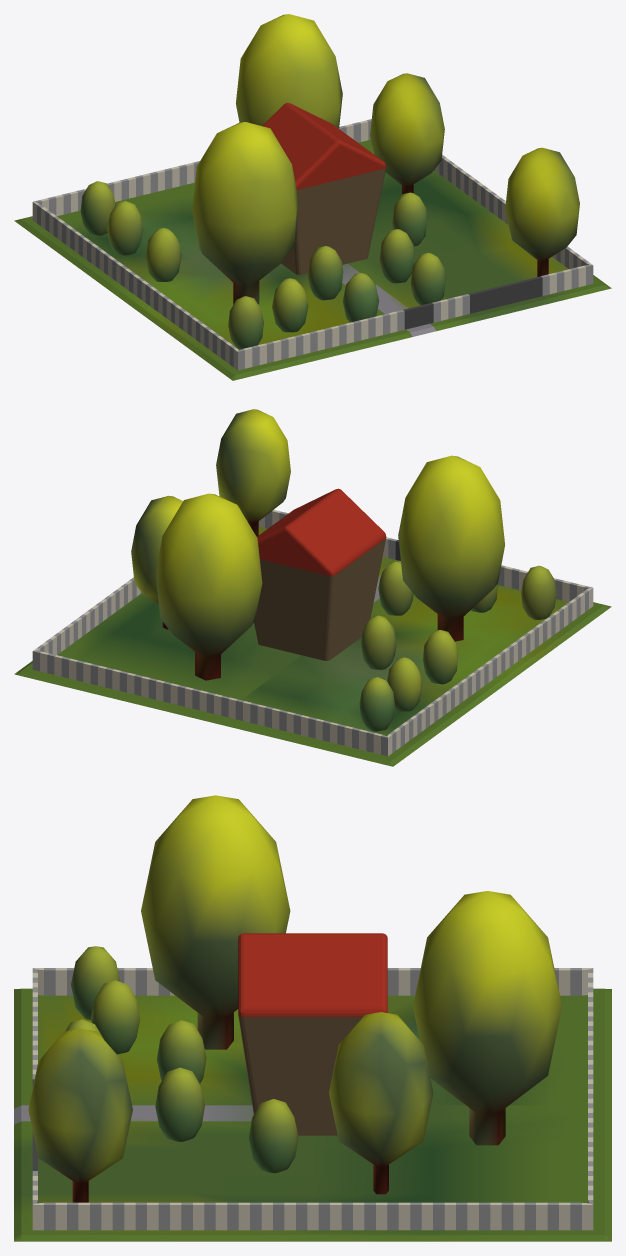
Rendered from SM_Building_House_2.fbx.
3 renders of one model, top to bottom at view 1: azimuth 30°, elevation 25°; view 2: azimuth 150°, elevation 25°; view 3: azimuth 270°, elevation 25°, orthographic. The views are drawn at different scales.
Parts seen in each view (by area): view 1: TreeBig.002, BaseGrass.001, Fence.001, Bushes.001, House.001; view 2: TreeBig.002, BaseGrass.001, House.001, Fence.001, Bushes.001; view 3: TreeBig.002, BaseGrass.001, Fence.001, House.001, Bushes.001.
Boxes of the visible parts, <box> form: TreeBig.002: <box>192,14,579,304</box>; BaseGrass.001: <box>14,140,611,380</box>; Fence.001: <box>32,119,593,370</box>; Bushes.001: <box>80,181,445,349</box>; House.001: <box>262,103,386,275</box>; TreeBig.002: <box>131,409,504,680</box>; BaseGrass.001: <box>14,526,611,766</box>; House.001: <box>254,488,386,660</box>; Fence.001: <box>32,509,593,756</box>; Bushes.001: <box>359,561,556,731</box>; TreeBig.002: <box>28,795,562,1202</box>; BaseGrass.001: <box>14,988,611,1241</box>; Fence.001: <box>32,968,593,1230</box>; House.001: <box>238,933,387,1135</box>; Bushes.001: <box>65,946,298,1173</box>.
Bounding box in the file's own units: 800 × 373 × 800.
